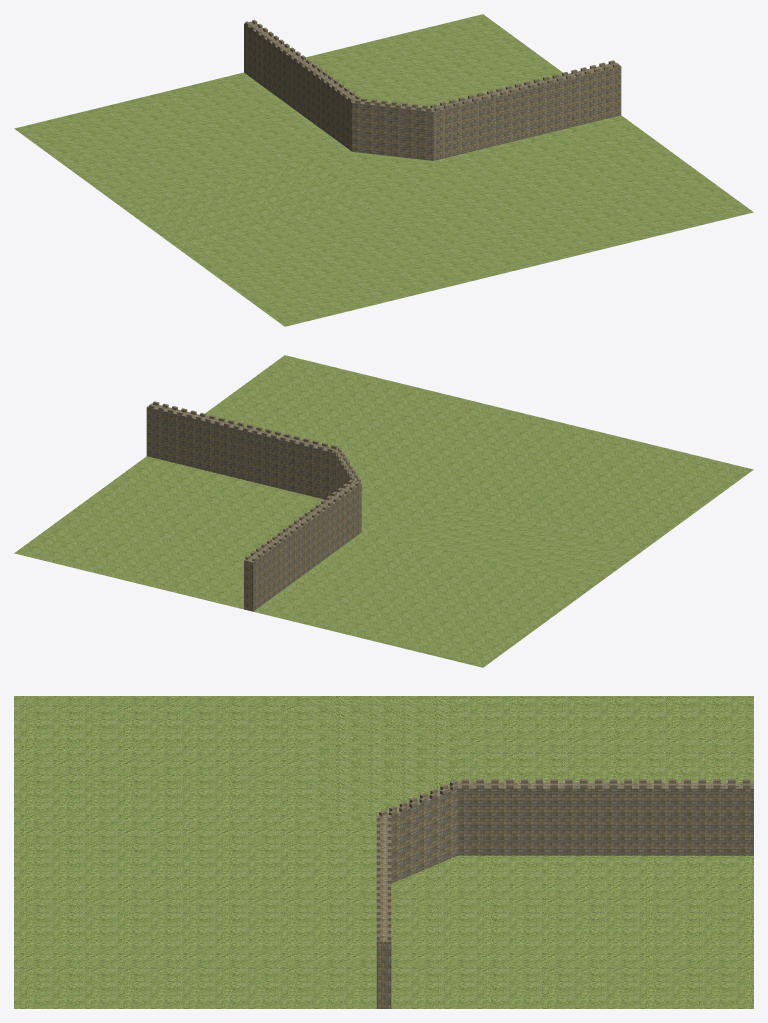
File: map50GBSW.fbx
The picture shows the model from 3 angles, top to bottom: view 1: azimuth 30°, elevation 25°; view 2: azimuth 150°, elevation 25°; view 3: azimuth 270°, elevation 25°; orthographic projection. The views are drawn at different scales.
Parts seen in each view (by area): view 1: map50GBSW:Layer1, map50GBSW:Layer2, map50GBSW:Layer3; view 2: map50GBSW:Layer1, map50GBSW:Layer2, map50GBSW:Layer3; view 3: map50GBSW:Layer1, map50GBSW:Layer2, map50GBSW:Layer3, map50GBSW:Layer4.
Boxes of the visible parts, bbox=[...] form: map50GBSW:Layer1: bbox=[14, 14, 753, 326]; map50GBSW:Layer2: bbox=[244, 21, 621, 160]; map50GBSW:Layer3: bbox=[245, 19, 618, 111]; map50GBSW:Layer1: bbox=[14, 355, 753, 667]; map50GBSW:Layer2: bbox=[146, 403, 361, 611]; map50GBSW:Layer3: bbox=[149, 401, 360, 561]; map50GBSW:Layer1: bbox=[14, 696, 753, 1008]; map50GBSW:Layer2: bbox=[376, 782, 753, 1008]; map50GBSW:Layer3: bbox=[376, 779, 750, 940]; map50GBSW:Layer4: bbox=[379, 780, 457, 816].
Size of the model in its own units: 1 by 0.105 by 1.
2 materials, 2 textured.
